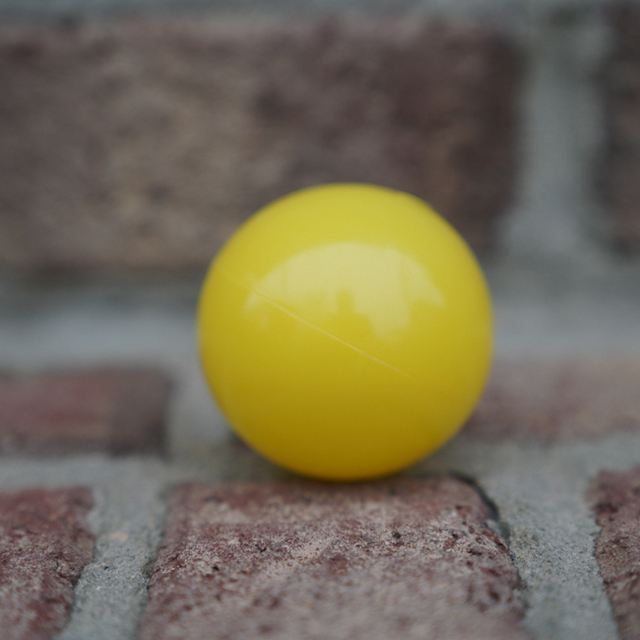Ball: (191, 188, 493, 477)
